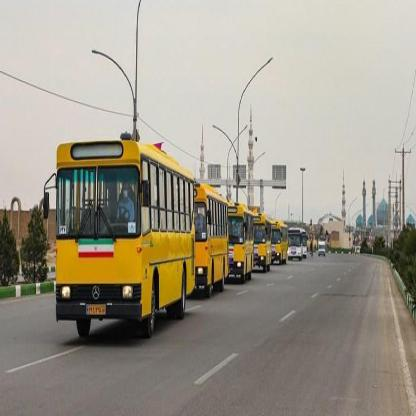Bus: (54, 136, 196, 344), (193, 184, 228, 295), (226, 204, 254, 284), (252, 212, 270, 268), (271, 223, 290, 262), (288, 230, 306, 258)
Car: (317, 241, 328, 256)
